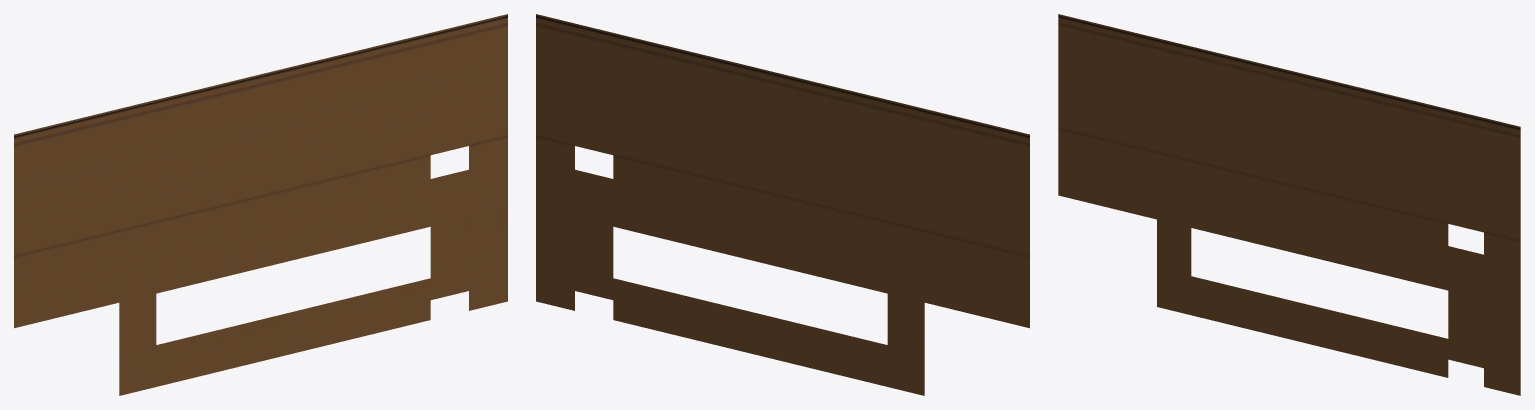
Rendered from WallVariation8.fbx.
3 views of the same model, side by side, from view 1: azimuth 30°, elevation 25°; view 2: azimuth 150°, elevation 25°; view 3: azimuth 330°, elevation 25° (orthographic). The views are drawn at different scales.
Parts seen in each view (by area): view 1: aaaaaaa; view 2: aaaaaaa; view 3: aaaaaaa.
Part boxes in pixels (left/top/right/bottom): aaaaaaa: left=14, top=14, right=507, bottom=395; aaaaaaa: left=536, top=14, right=1029, bottom=395; aaaaaaa: left=1058, top=14, right=1520, bottom=395.
Size of the model in its own units: 1264 by 703 by 0.000122.
